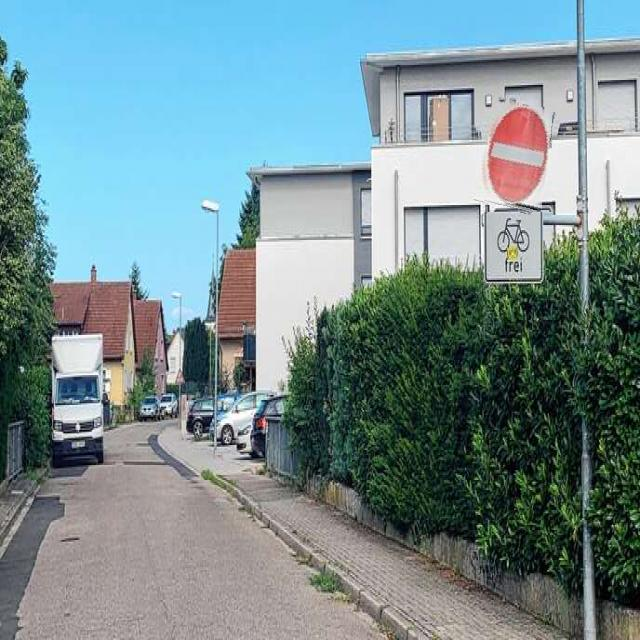no entry: (476, 100, 552, 212)
